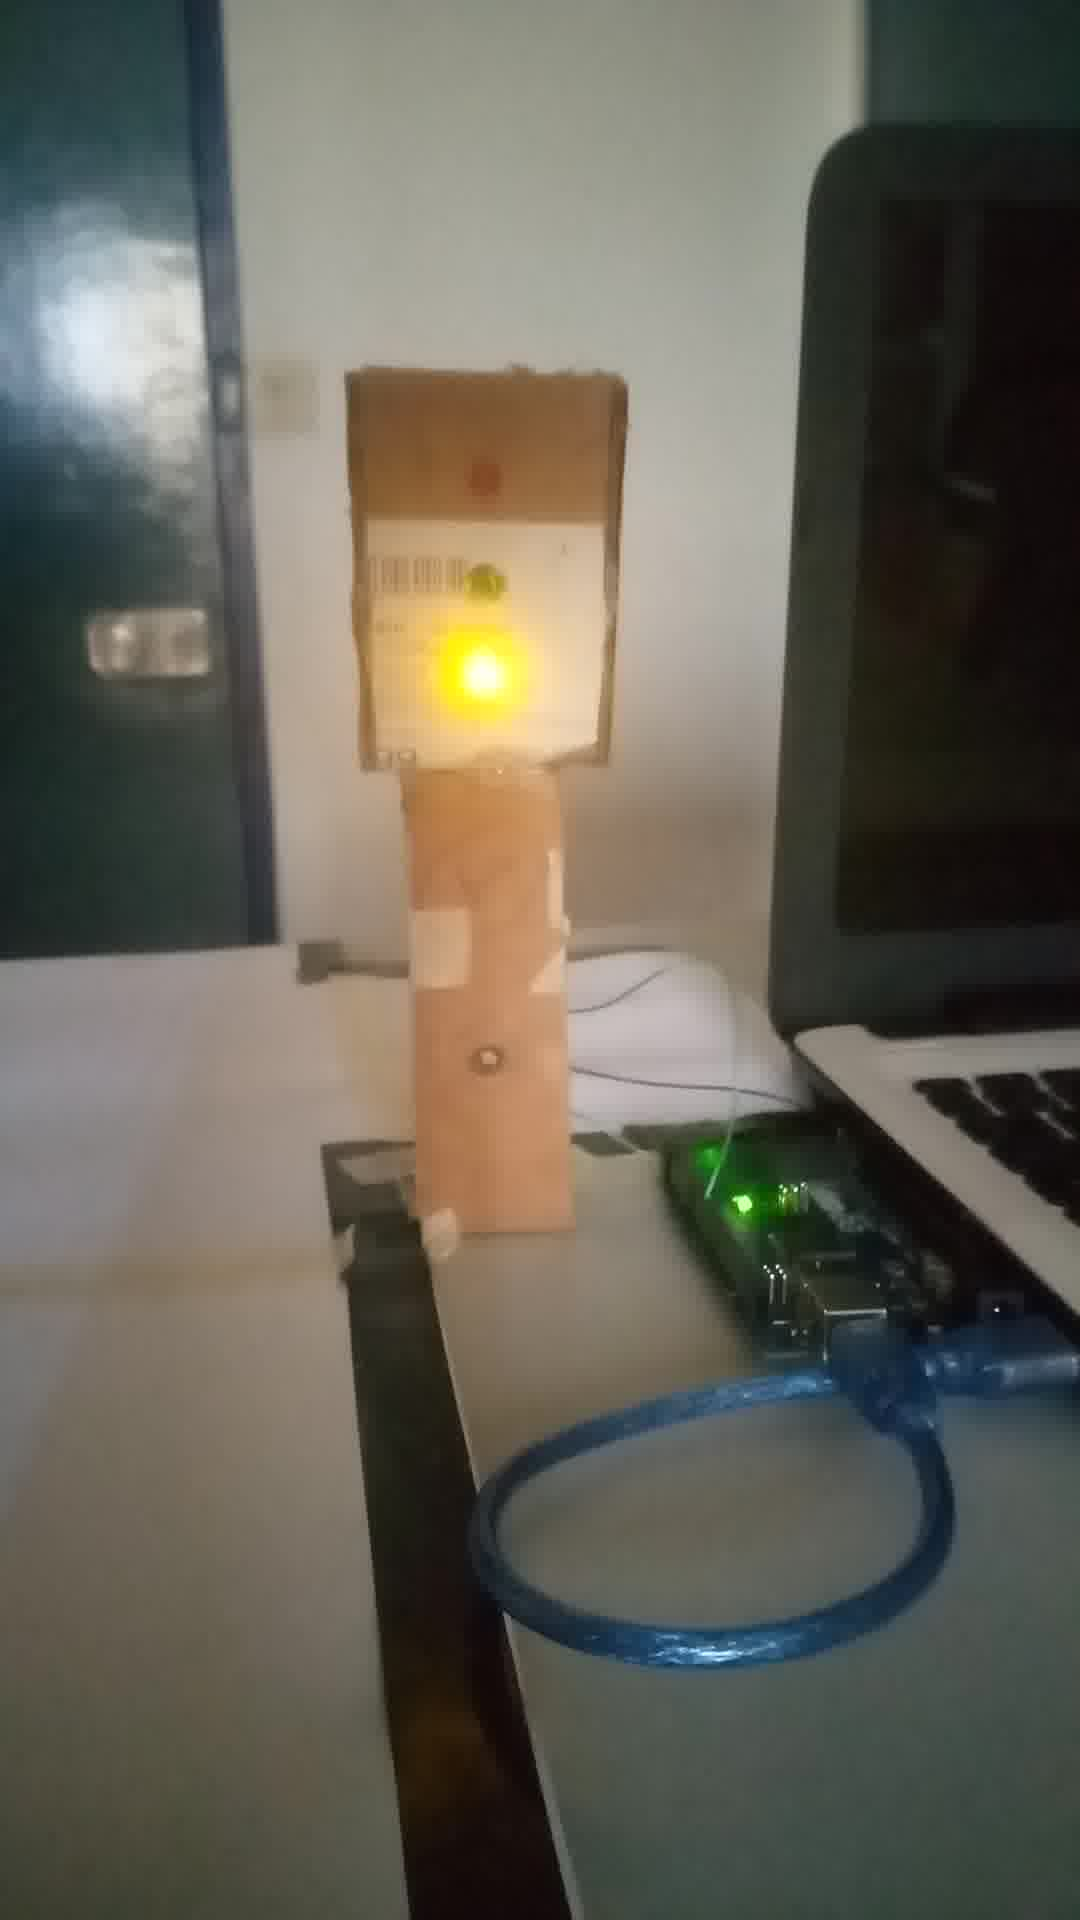green: (349, 369, 618, 771)
